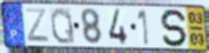1: (136, 9, 150, 46)
4: (107, 7, 129, 46)
8: (80, 6, 104, 46)
Q: (49, 6, 77, 46)
S: (159, 7, 189, 48)
Z: (24, 8, 51, 44)
